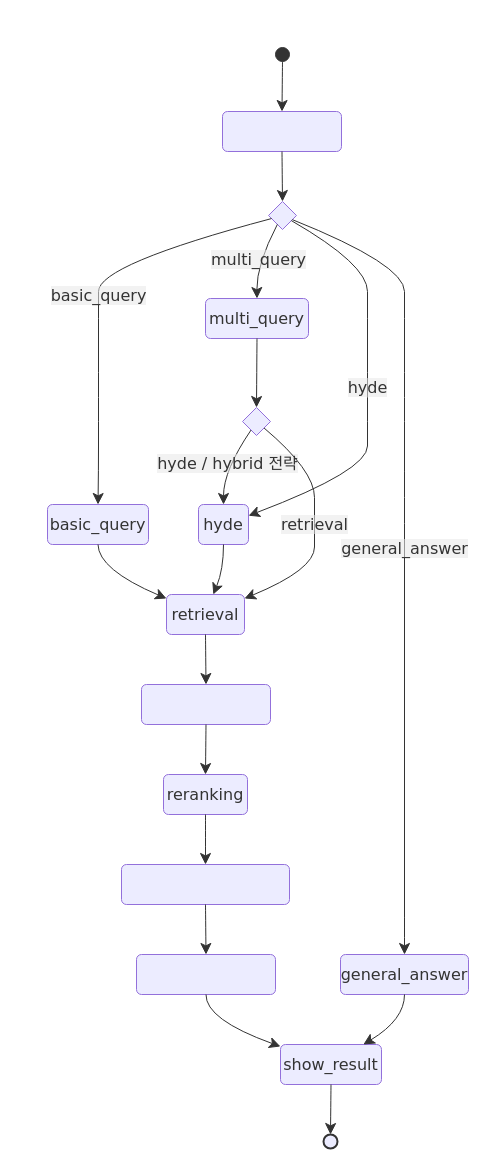
Image size: 486x1166. Some labels were removed from this diagram. The box of each missing label's shape, as (x1, y1, x2, y2) in pixels:
analyze_query: (222, 110, 342, 152)
context_compression: (120, 864, 290, 904)
generate_answer: (136, 954, 276, 994)
post_processing: (140, 684, 270, 724)
